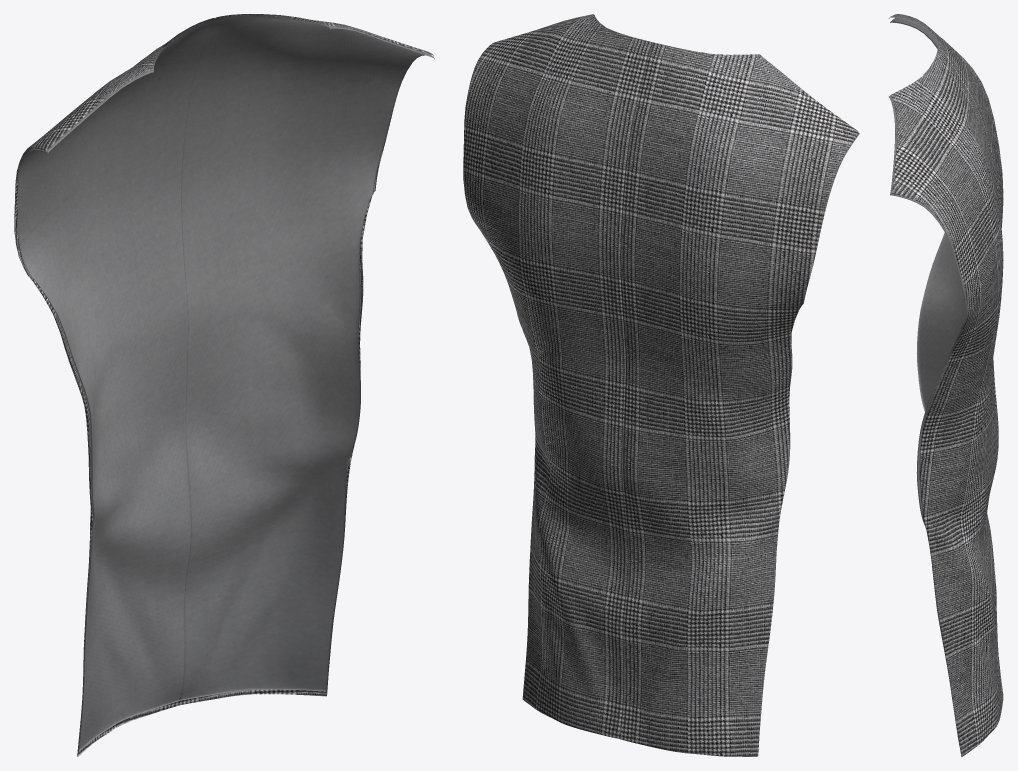
Rendered from Full_Lined.glb.
3 views of the same model, side by side, from view 1: azimuth 30°, elevation 25°; view 2: azimuth 150°, elevation 25°; view 3: azimuth 270°, elevation 25° (orthographic). The views are drawn at different scales.
Parts seen in each view (by area): view 1: Full_Lined, Double_vent; view 2: Double_vent; view 3: Double_vent, Full_Lined.
Boxes of the visible parts, x1,y1,x2,y2 form: Full_Lined: (17, 15, 434, 751); Double_vent: (14, 14, 433, 756); Double_vent: (463, 14, 858, 756); Double_vent: (890, 14, 1003, 756); Full_Lined: (888, 16, 1002, 747).
Size of the model in its own units: 0.0591 by 0.1036 by 0.0165.
Materials: 2 (2 with a texture image).
